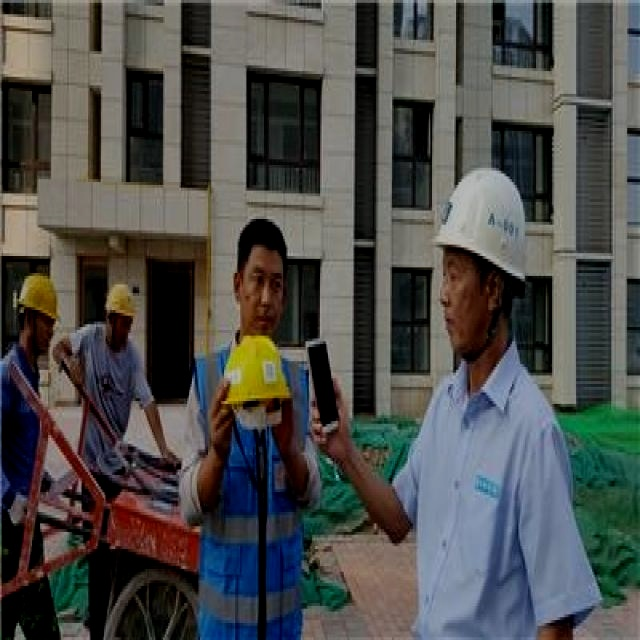Con_Casco: (438, 169, 528, 361)
Sin_Casco_Mascarrilla: (237, 219, 289, 335)
